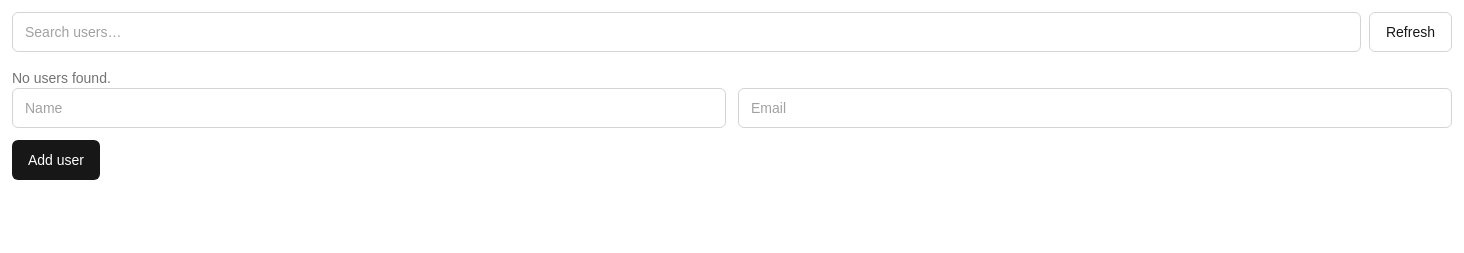
Scenario: UserCreateForm › refetches the list after a successful create
The image size is (1464, 253).
Expected: the text "No users found." is shown, [12, 70, 111, 86]
Type "Ada Lovelace" into the field labelled "Name" at coordinates (369, 108), box [12, 88, 726, 128]
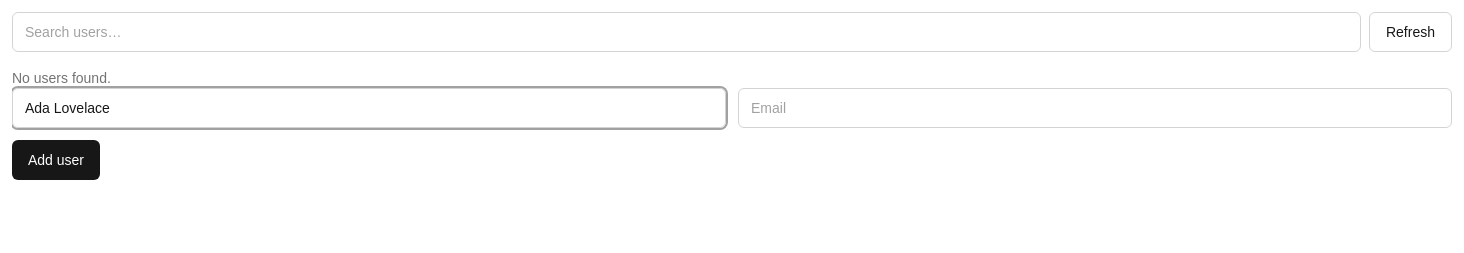
Type "ada@example.com" into the field labelled "Email" at coordinates (1095, 108), box [738, 88, 1452, 128]
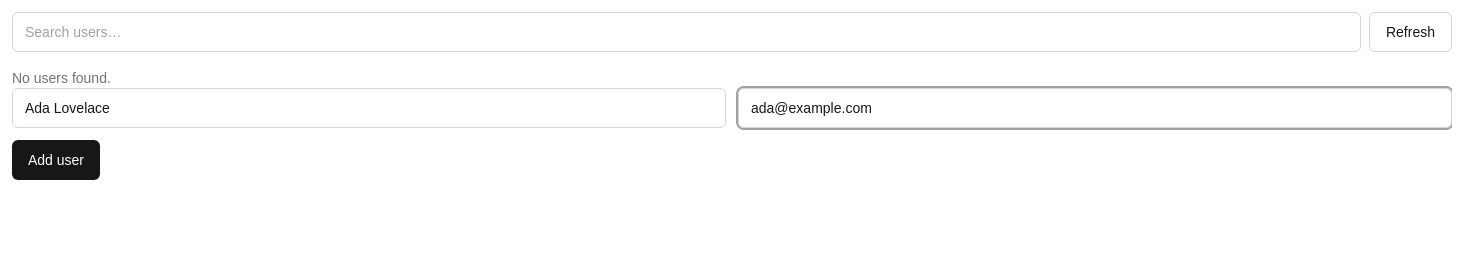
Click the button "Add user" at coordinates (56, 160), box [12, 140, 100, 180]
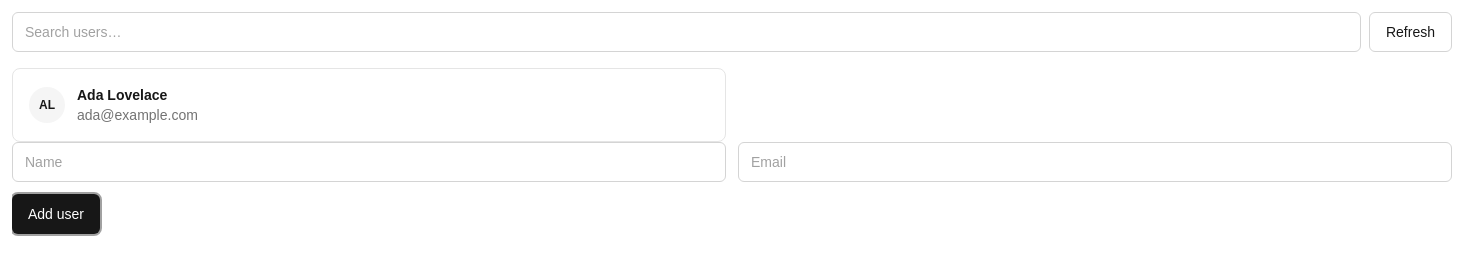
Expected: the heading "Ada Lovelace" is shown, [77, 87, 167, 103]
